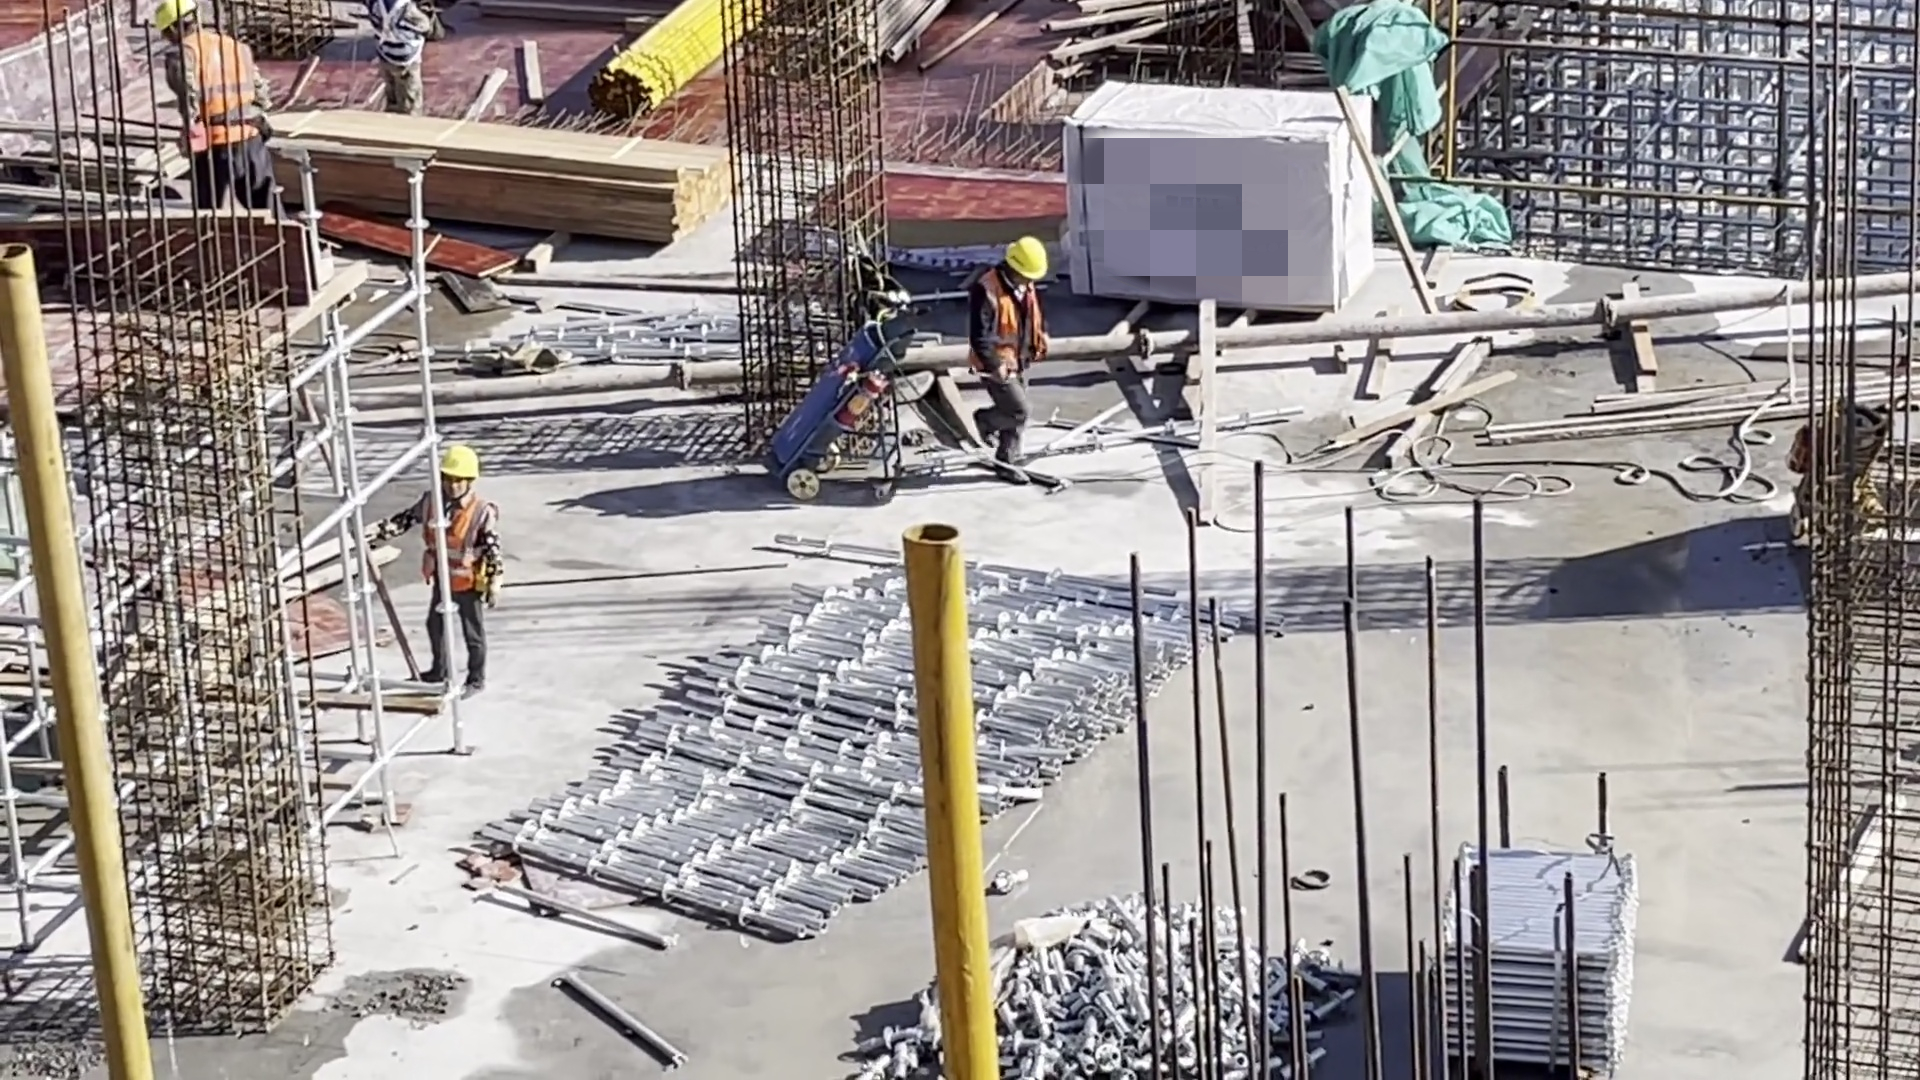helmet: (998, 235, 1046, 278), (436, 444, 481, 481), (155, 5, 192, 33)
person: (367, 446, 506, 698), (141, 4, 289, 205), (969, 232, 1054, 498), (367, 6, 441, 106)
scaffold: (485, 531, 1280, 938), (1440, 838, 1638, 1080)
vest: (177, 39, 262, 156), (420, 494, 489, 600), (984, 272, 1050, 376)
wood: (280, 102, 747, 242)
